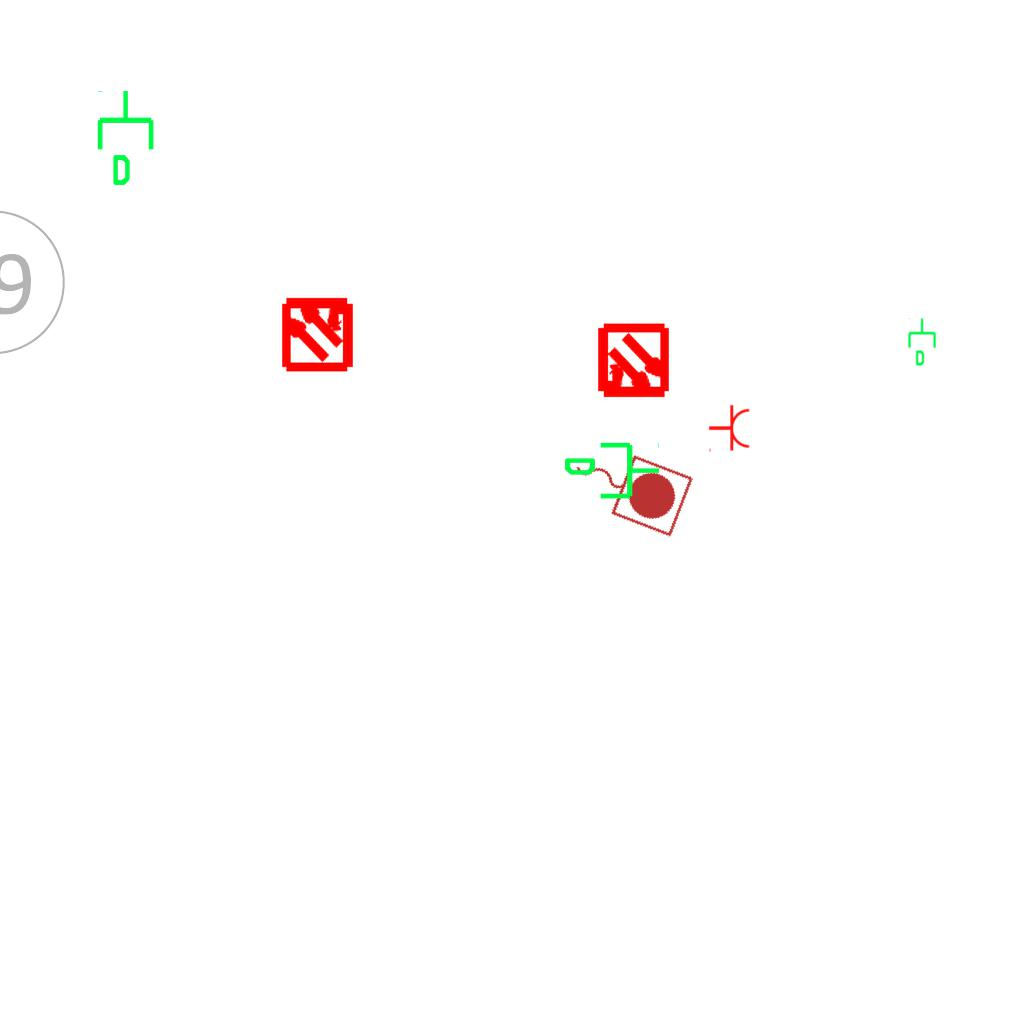Datenanschluss_einfach: (93, 88, 162, 188), (562, 438, 662, 507), (906, 317, 940, 367)
OT_Multisensormelder_(Kombination_RMO_WMD): (577, 306, 690, 419), (261, 276, 374, 389)
Schukosteckdose_einfach: (708, 404, 751, 454)
Zugtaster: (559, 430, 699, 542)
